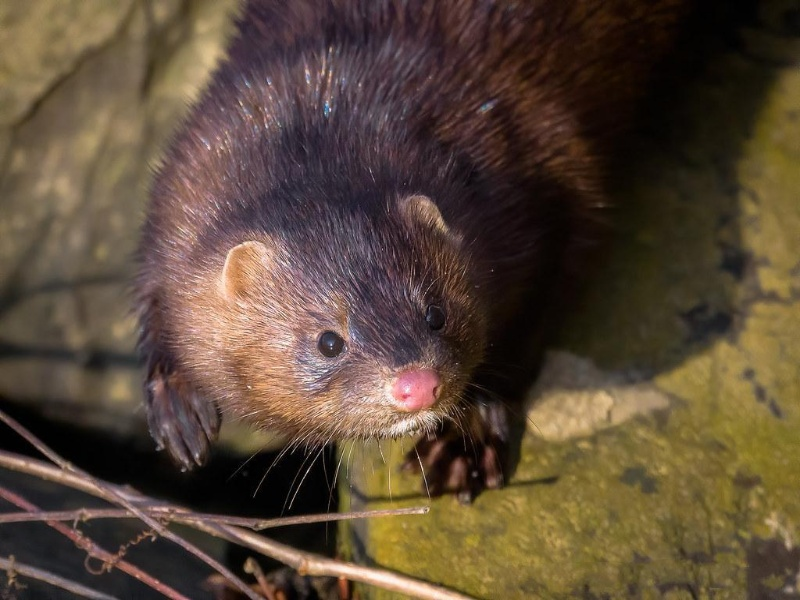minkish: (136, 1, 700, 506)
